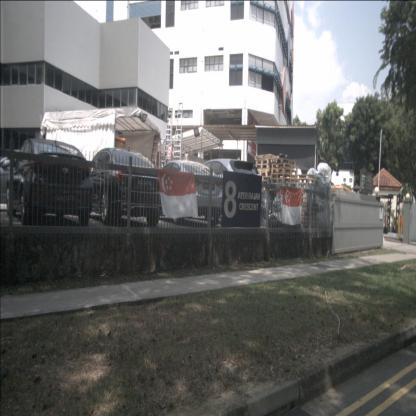vehicle-car: (7, 139, 93, 225), (77, 147, 163, 222), (186, 158, 262, 225), (151, 160, 225, 221), (0, 156, 47, 203)
